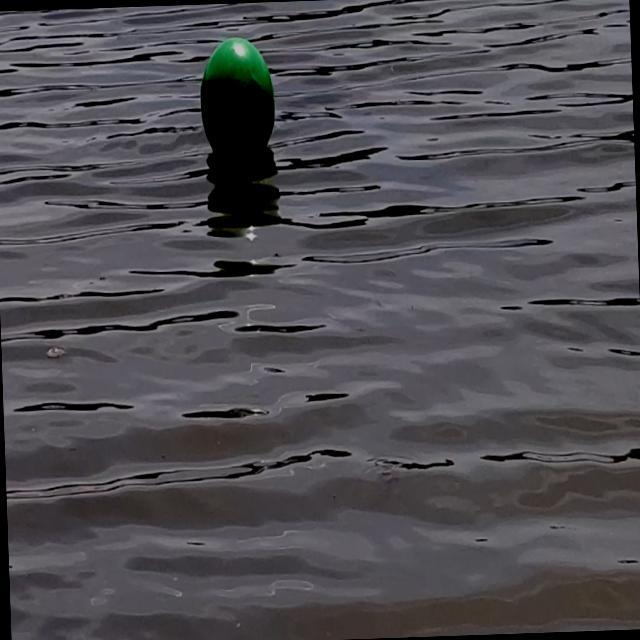buoy: (197, 34, 278, 163)
